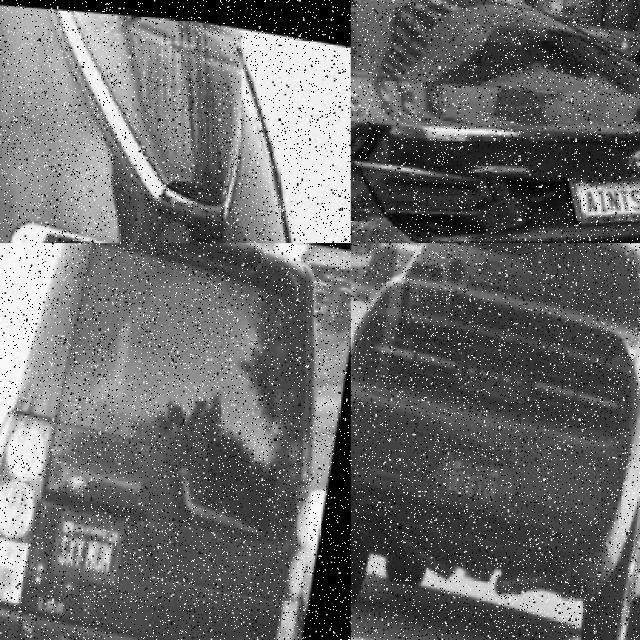LicensePlate: (56, 503, 130, 583), (450, 442, 508, 504), (571, 171, 639, 219)
